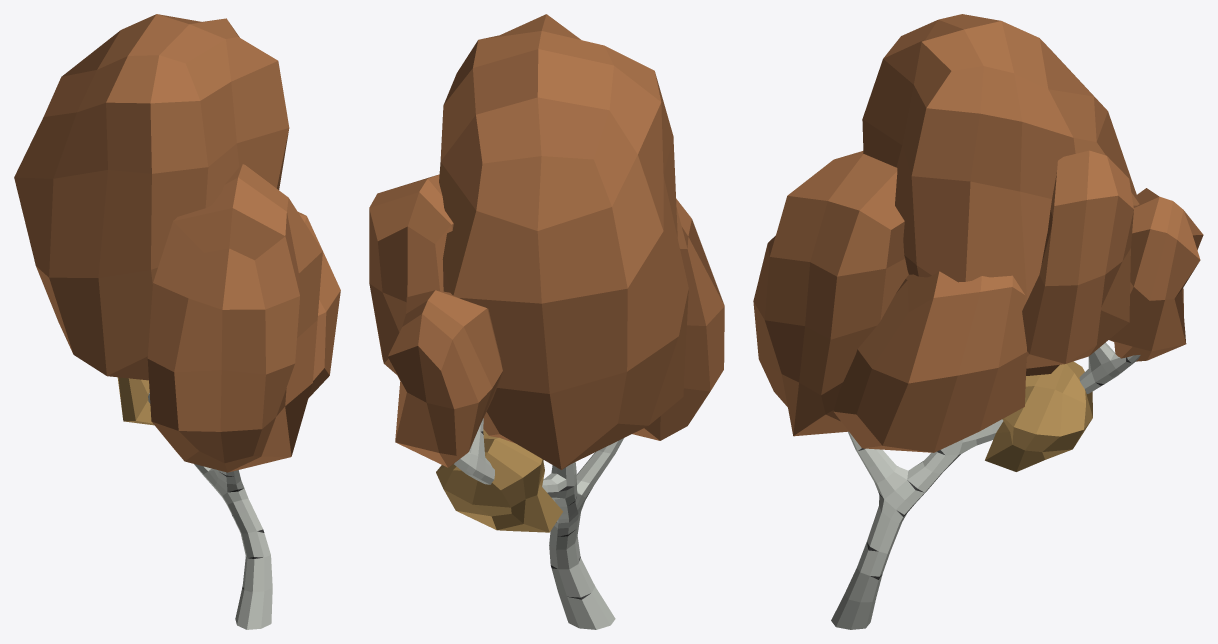
The model's file is BirchTree_Autumn_1.gltf.
The picture shows the model from 3 angles, left to right: view 1: azimuth 30°, elevation 25°; view 2: azimuth 150°, elevation 25°; view 3: azimuth 270°, elevation 25°; orthographic projection. The views are drawn at different scales.
Parts seen in each view (by area): view 1: BirchTree_Autumn_1; view 2: BirchTree_Autumn_1; view 3: BirchTree_Autumn_1.
Part boxes in pixels (x1,y1,x2,y2): BirchTree_Autumn_1: (14,14,340,629); BirchTree_Autumn_1: (369,14,724,629); BirchTree_Autumn_1: (753,14,1203,629).
Size of the model in its own units: 1.7 by 3.57 by 2.48.
